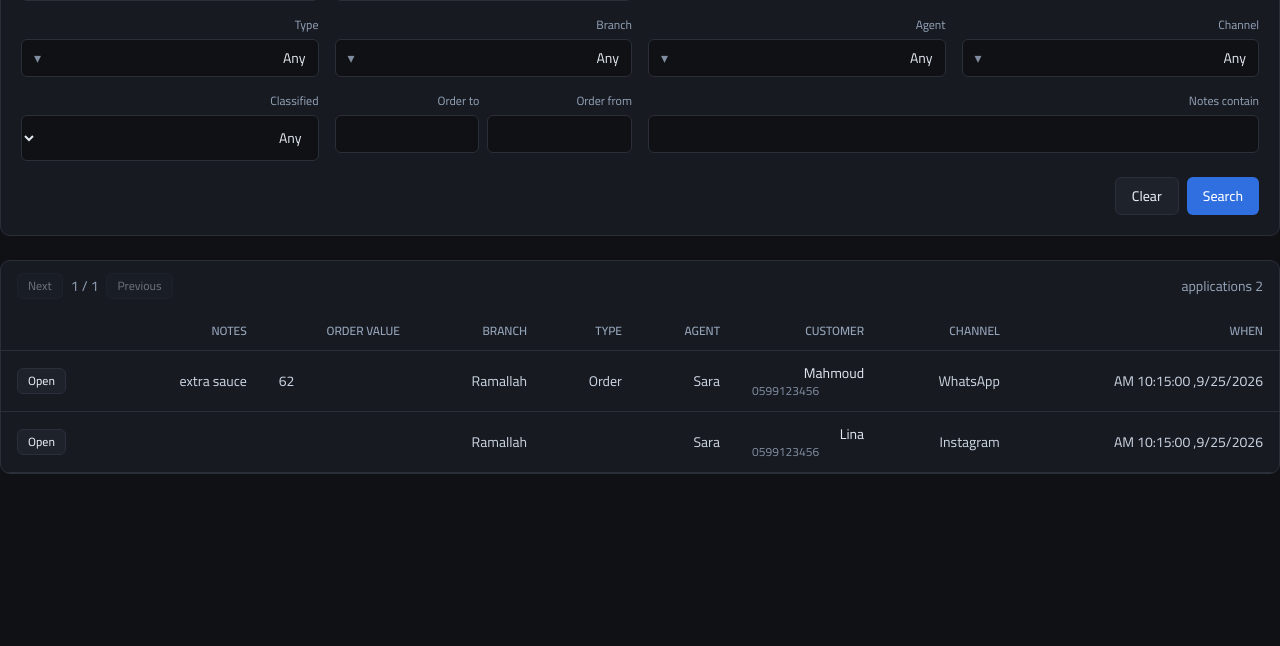
Test: applications page › offers Classify on an unclassified message, using the messages form (direction None)
Click the button "Open" in the row of "Instagram" at (41, 442), box [17,429,66,455]
(page scrolled)
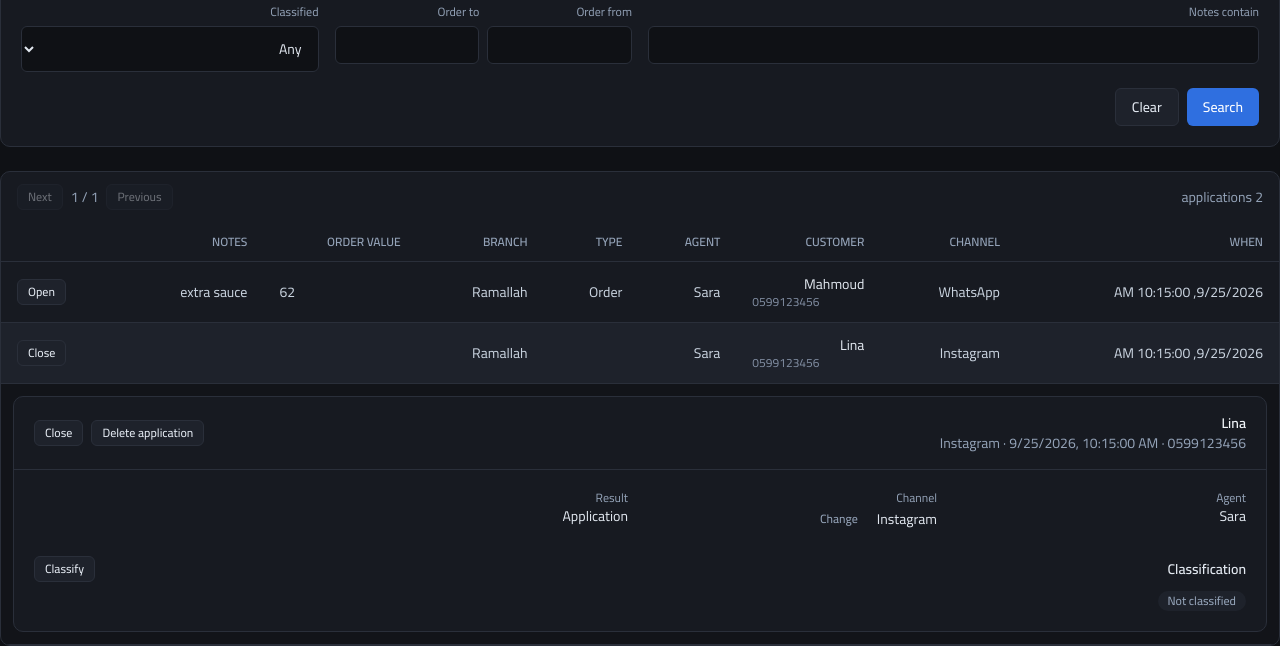
Result: the text "Not classified" is shown at [1158,591,1246,611]
Click the button "Classify" at (65, 569), box [34,556,95,582]
(page scrolled)
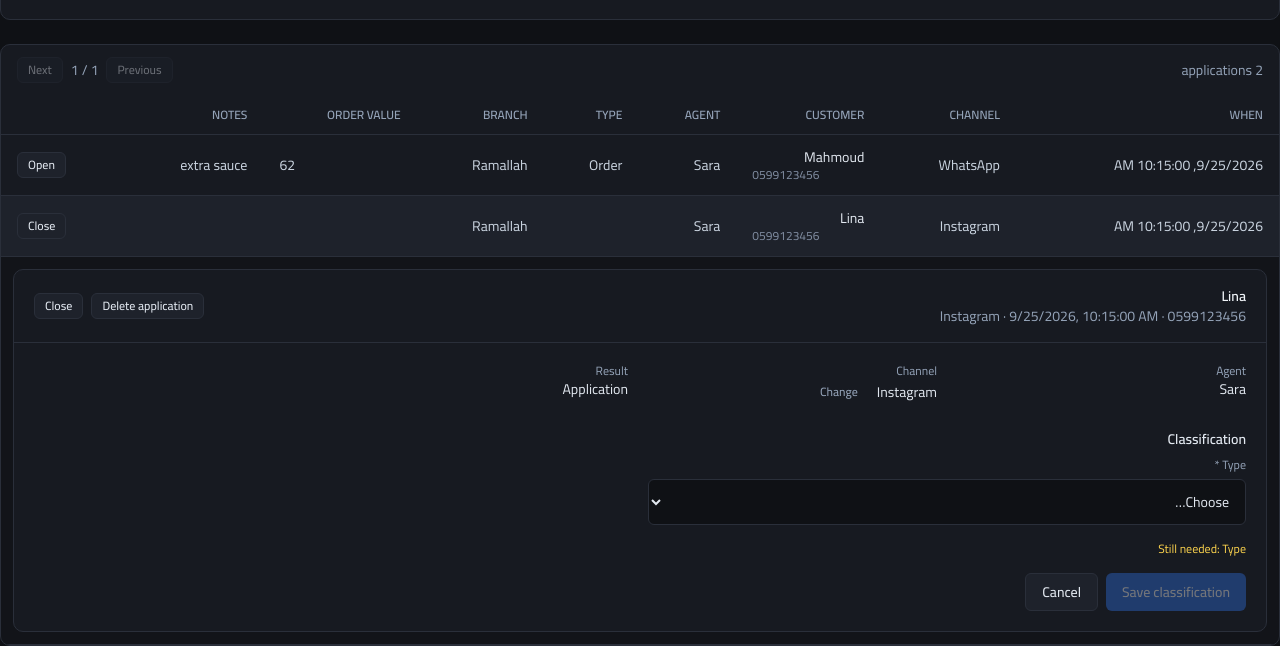
Result: the dropdown labelled "Type *" is shown at [648,479,1246,525]
